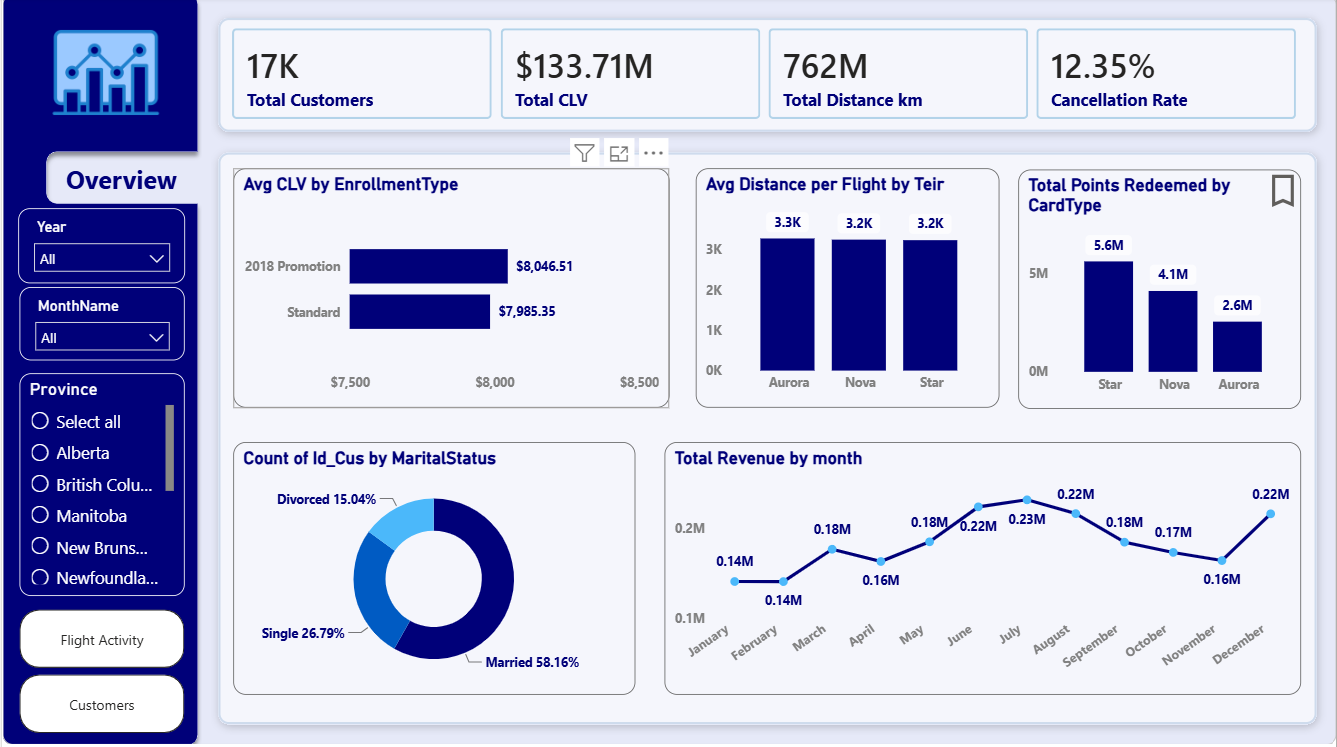

The page's visual inventory and layout, read from the dashboard file:
{"tool":"powerbi","page":{"name":"Overview","canvas":[1280,720],"ordinal":0},"visuals":[{"type":"cardVisual","fields":{"Data":["Mesures.Total Customers","Mesures.Total CLV","Mesures.Total Distance km","Mesures.Cancellation Rate"]},"box":[203.4,13,1057.5,121.2],"z":0},{"type":"slicer","fields":{"Values":["Dim_Date.Year"]},"box":[15.9,202,160.1,72.1],"z":1000},{"type":"barChart","title":"Avg CLV by EnrollmentType","fields":{"Category":["Dim_Enrollment.EnrollmentType"],"Y":["Mesures.Avg CLV"]},"box":[222.2,164.5,418.4,229.4],"z":2000},{"type":"lineChart","title":"Total Revenue by month ","fields":{"Y":["Mesures.Total Revenue"],"Category":["Dim_Date.MonthName"]},"box":[634.8,427.1,610.3,242.4],"z":3000},{"type":"lineStackedColumnComboChart","title":"Total Points Redeemed by CardType","fields":{"Category":["Dim_LoyaltyCard.CardType"],"Y":["Mesures.Total Points Redeemed"]},"box":[973.9,165.9,271.2,229.4],"z":5000},{"type":"donutChart","title":"Count of Id_Cus by MaritalStatus","fields":{"Category":["Dim_Customer.MaritalStatus"],"Y":["CountNonNull(Dim_Customer.Id_Cus)"]},"box":[222.2,427.1,385.2,242.4],"z":6000},{"type":"listSlicer","fields":{"Values":["Dim_Geography.Province"]},"box":[17.3,360.7,158.7,213.5],"z":7000},{"type":"pageNavigator","box":[17.3,587.2,158.7,119.7],"z":8000},{"type":"image","box":[24.5,17.3,151.5,111.1],"z":9000},{"type":"slicer","fields":{"Values":["Dim_Date.MonthName"]},"box":[17.3,278.5,158.7,70.7],"z":10000},{"type":"lineStackedColumnComboChart","title":"Avg Distance per Flight by Teir","fields":{"Y":["Mesures.Avg Distance per Flight km"],"Category":["Dim_LoyaltyCard.CardType"]},"box":[665.1,164.5,291.4,229.4],"z":11000},{"type":"actionButton","box":[1207.6,165.9,57.7,40.4],"z":12000},{"type":"textbox","box":[56.3,152.9,147.2,49.1],"z":14000}]}

Visuals, with their boxes in screenshot pixels (x1, y1, x2, y2), scaled from the page's 1280x720 canvas onto the 1337x747 screenshot:
cardVisual - Mesures.Total Customers x Mesures.Total CLV: (left=212, top=13, right=1317, bottom=139)
slicer - Dim_Date.Year: (left=17, top=210, right=184, bottom=284)
"Avg CLV by EnrollmentType" barChart: (left=232, top=171, right=669, bottom=409)
"Total Revenue by month " lineChart: (left=663, top=443, right=1301, bottom=695)
"Total Points Redeemed by CardType" lineStackedColumnComboChart: (left=1017, top=172, right=1301, bottom=410)
"Count of Id_Cus by MaritalStatus" donutChart: (left=232, top=443, right=634, bottom=695)
listSlicer - Dim_Geography.Province: (left=18, top=374, right=184, bottom=596)
pageNavigator: (left=18, top=609, right=184, bottom=733)
image: (left=26, top=18, right=184, bottom=133)
slicer - Dim_Date.MonthName: (left=18, top=289, right=184, bottom=362)
"Avg Distance per Flight by Teir" lineStackedColumnComboChart: (left=695, top=171, right=999, bottom=409)
actionButton: (left=1261, top=172, right=1322, bottom=214)
textbox: (left=59, top=159, right=213, bottom=210)
